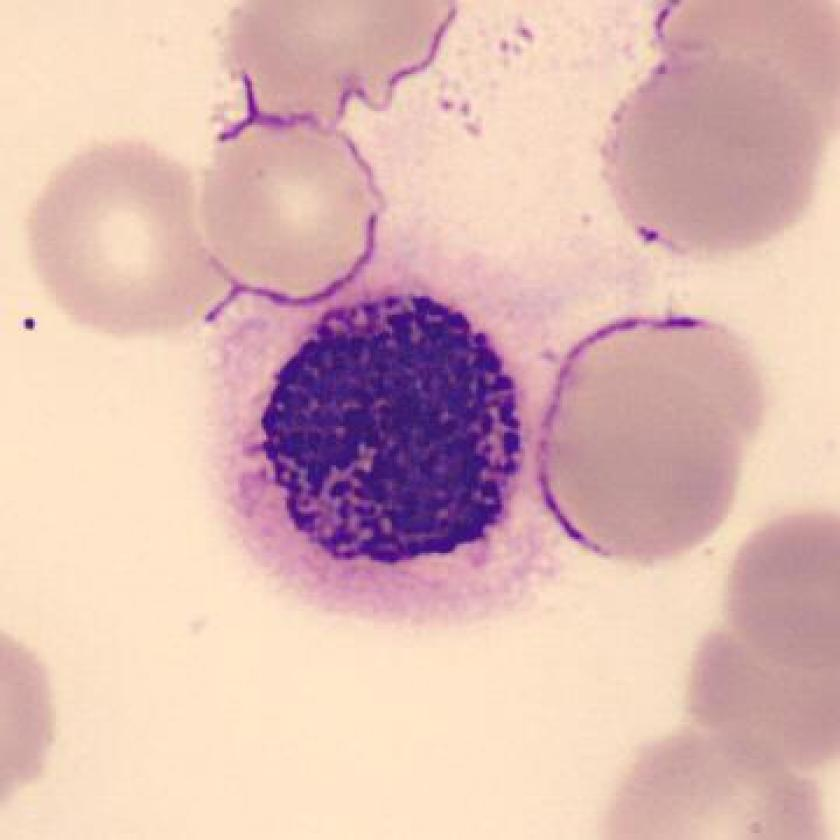basophil: (256, 290, 536, 603)
